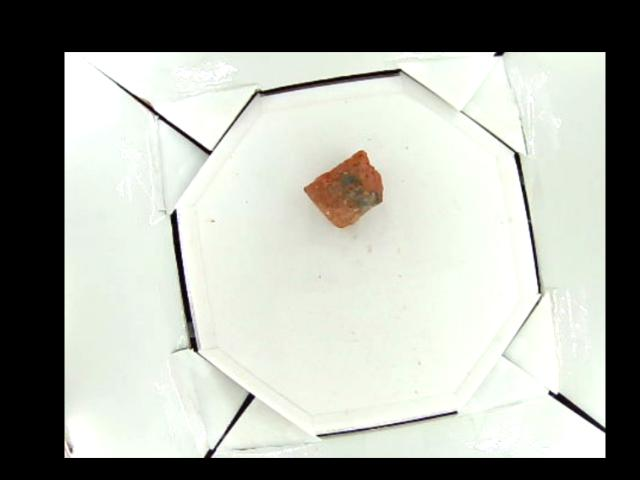Brisk: (305, 148, 381, 225)
